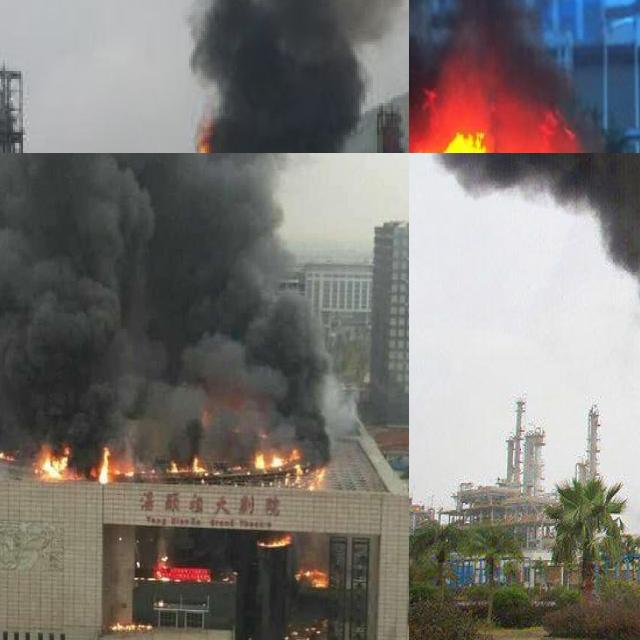fire: (409, 111, 618, 153), (250, 444, 324, 485), (36, 442, 72, 481), (191, 116, 219, 153), (172, 454, 207, 477), (109, 614, 152, 632), (92, 446, 113, 481), (297, 564, 328, 587), (258, 533, 292, 549), (168, 458, 191, 474), (0, 446, 14, 461), (168, 458, 180, 473)
smoke: (0, 153, 355, 455), (409, 153, 640, 451), (186, 0, 405, 153), (409, 0, 613, 153)
